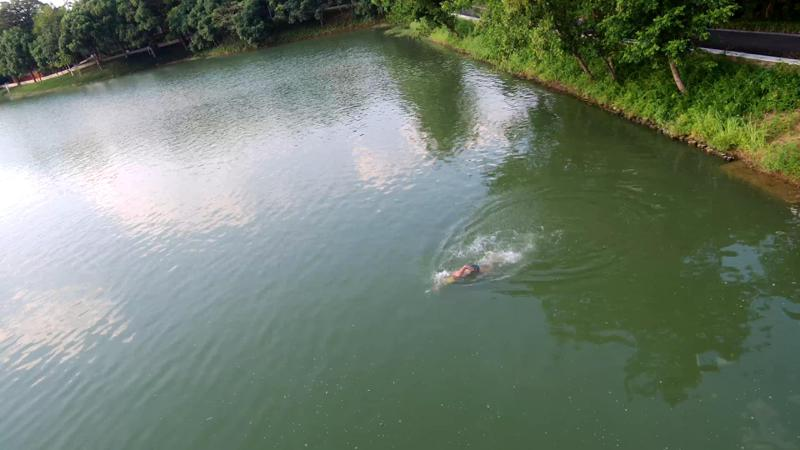swimmers: (431, 260, 492, 293)
